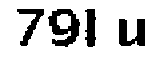7: (12, 5, 45, 48)
9: (48, 8, 80, 49)
I: (83, 4, 103, 54)
u: (114, 14, 149, 53)
